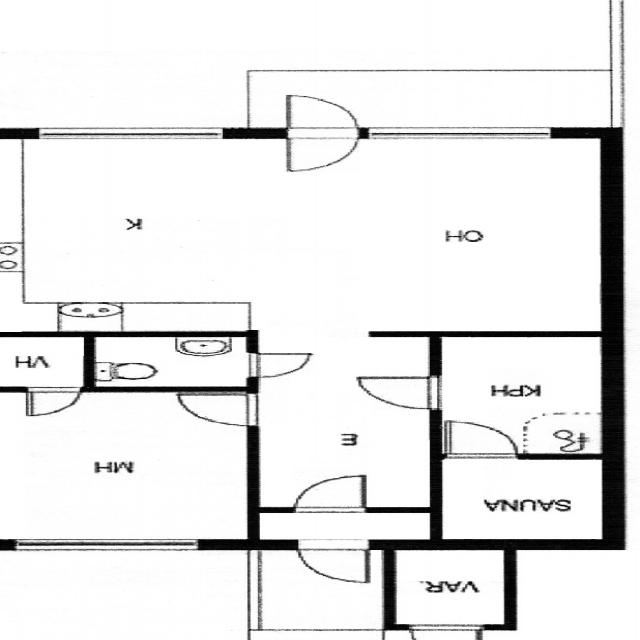door: (298, 539, 369, 582), (287, 127, 357, 170), (287, 96, 357, 138), (294, 474, 366, 512), (444, 422, 516, 459), (359, 376, 440, 408), (178, 394, 258, 425), (27, 386, 80, 416), (247, 353, 310, 377), (411, 624, 480, 640)
